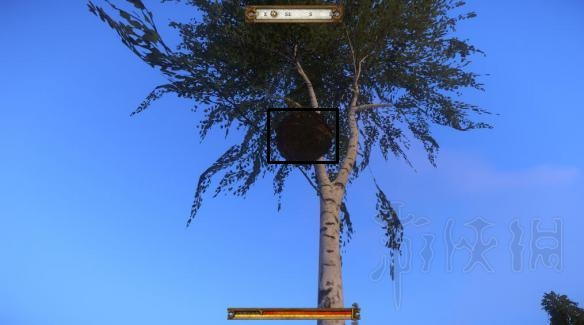bird-nest: (268, 109, 337, 162)
